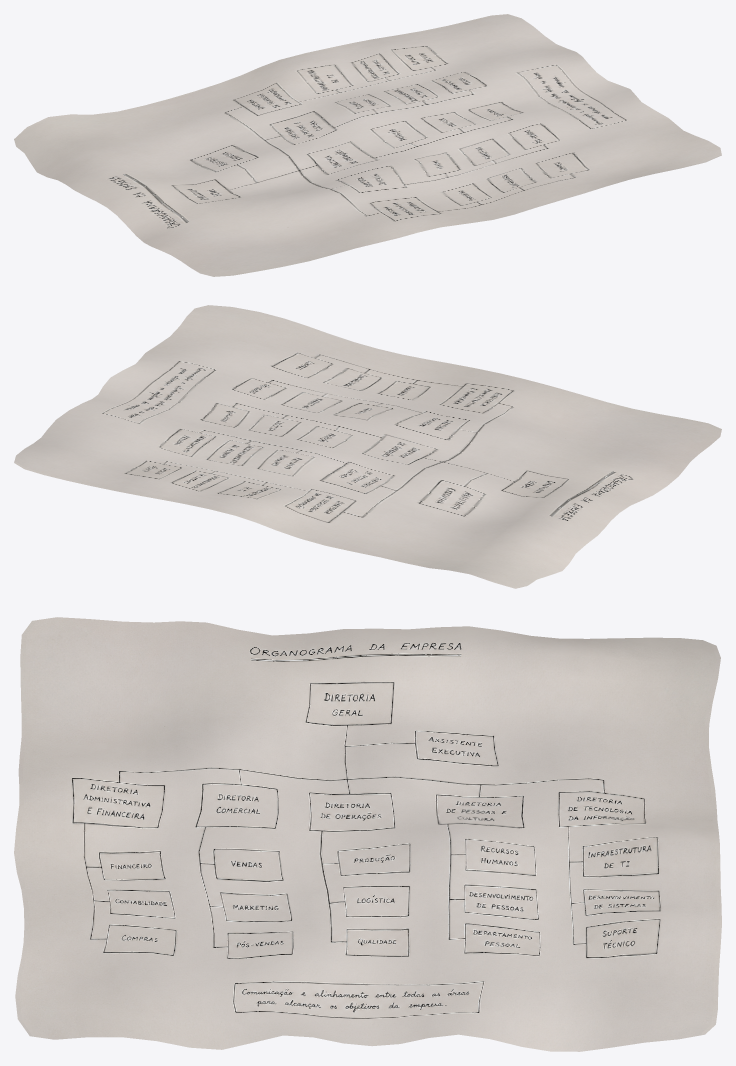
File: Papel4.fbx
3 renders of one model, top to bottom at view 1: azimuth 30°, elevation 25°; view 2: azimuth 150°, elevation 25°; view 3: azimuth 270°, elevation 25°, orthographic. The views are drawn at different scales.
Visible parts, largest first — view 1: Papel4; view 2: Papel4; view 3: Papel4.
Part boxes in pixels (left/top/right/bottom): Papel4: left=14, top=14, right=721, bottom=276; Papel4: left=14, top=305, right=721, bottom=588; Papel4: left=14, top=617, right=721, bottom=1051.
Size of the model in its own units: 203 by 6.68 by 143.
1 material, 1 textured.
